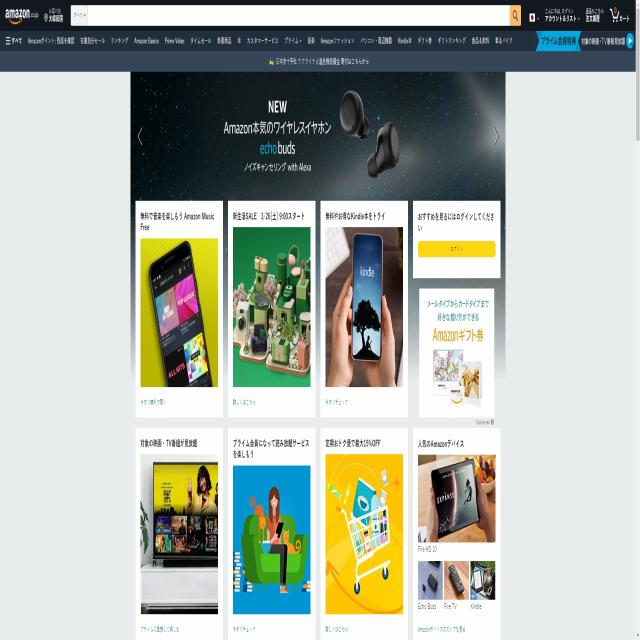menu-bar: (525, 1, 630, 27)
search: (69, 1, 522, 28)
tab-bar: (3, 29, 515, 50)
